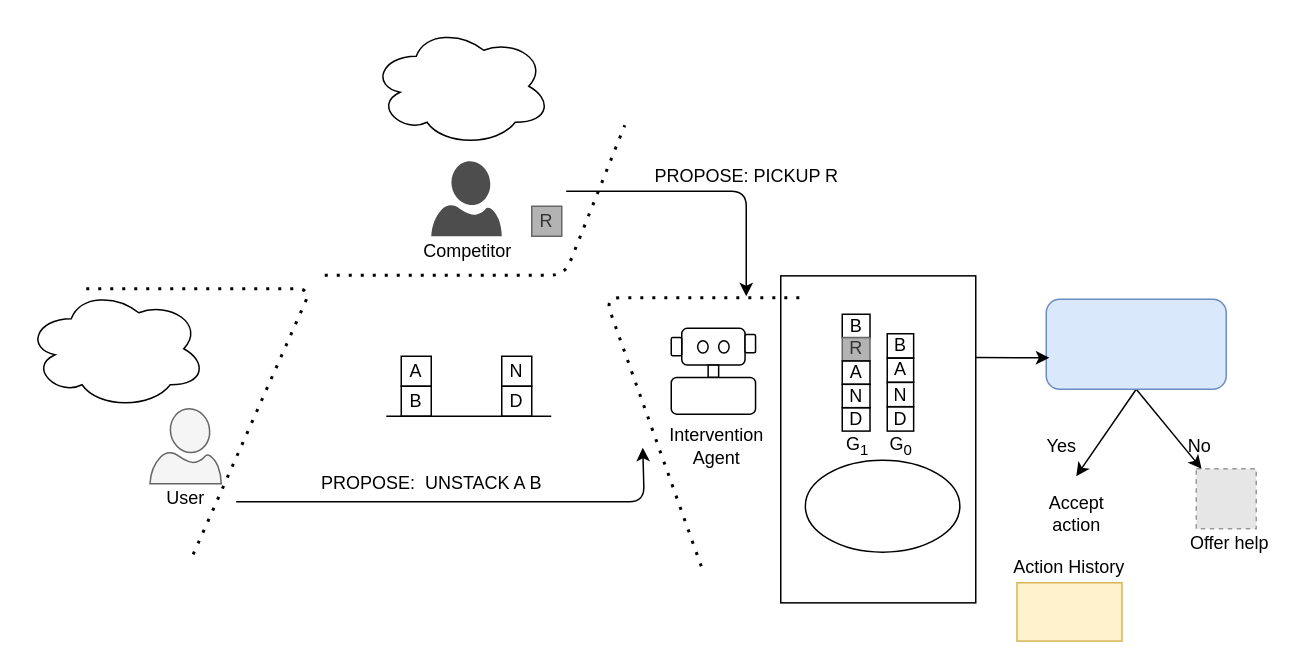
Image size: 1308x668. Some labels were removed from this diagram. Grey dashed boxes stand in for pictures. The centre of each missing label's shape, as x and y in pixels:
"Is the proposed action helpful for the user?" belongs at pixel 1135 343.
"Model M={A 0 +A 1 . F 0 +F 1 }" belongs at pixel 882 505.
"PICKUP N STACK N D" belongs at pixel 1069 611.
"Spell BAND" belongs at pixel 115 348.
"Spell BRAND" belongs at pixel 460 85.
